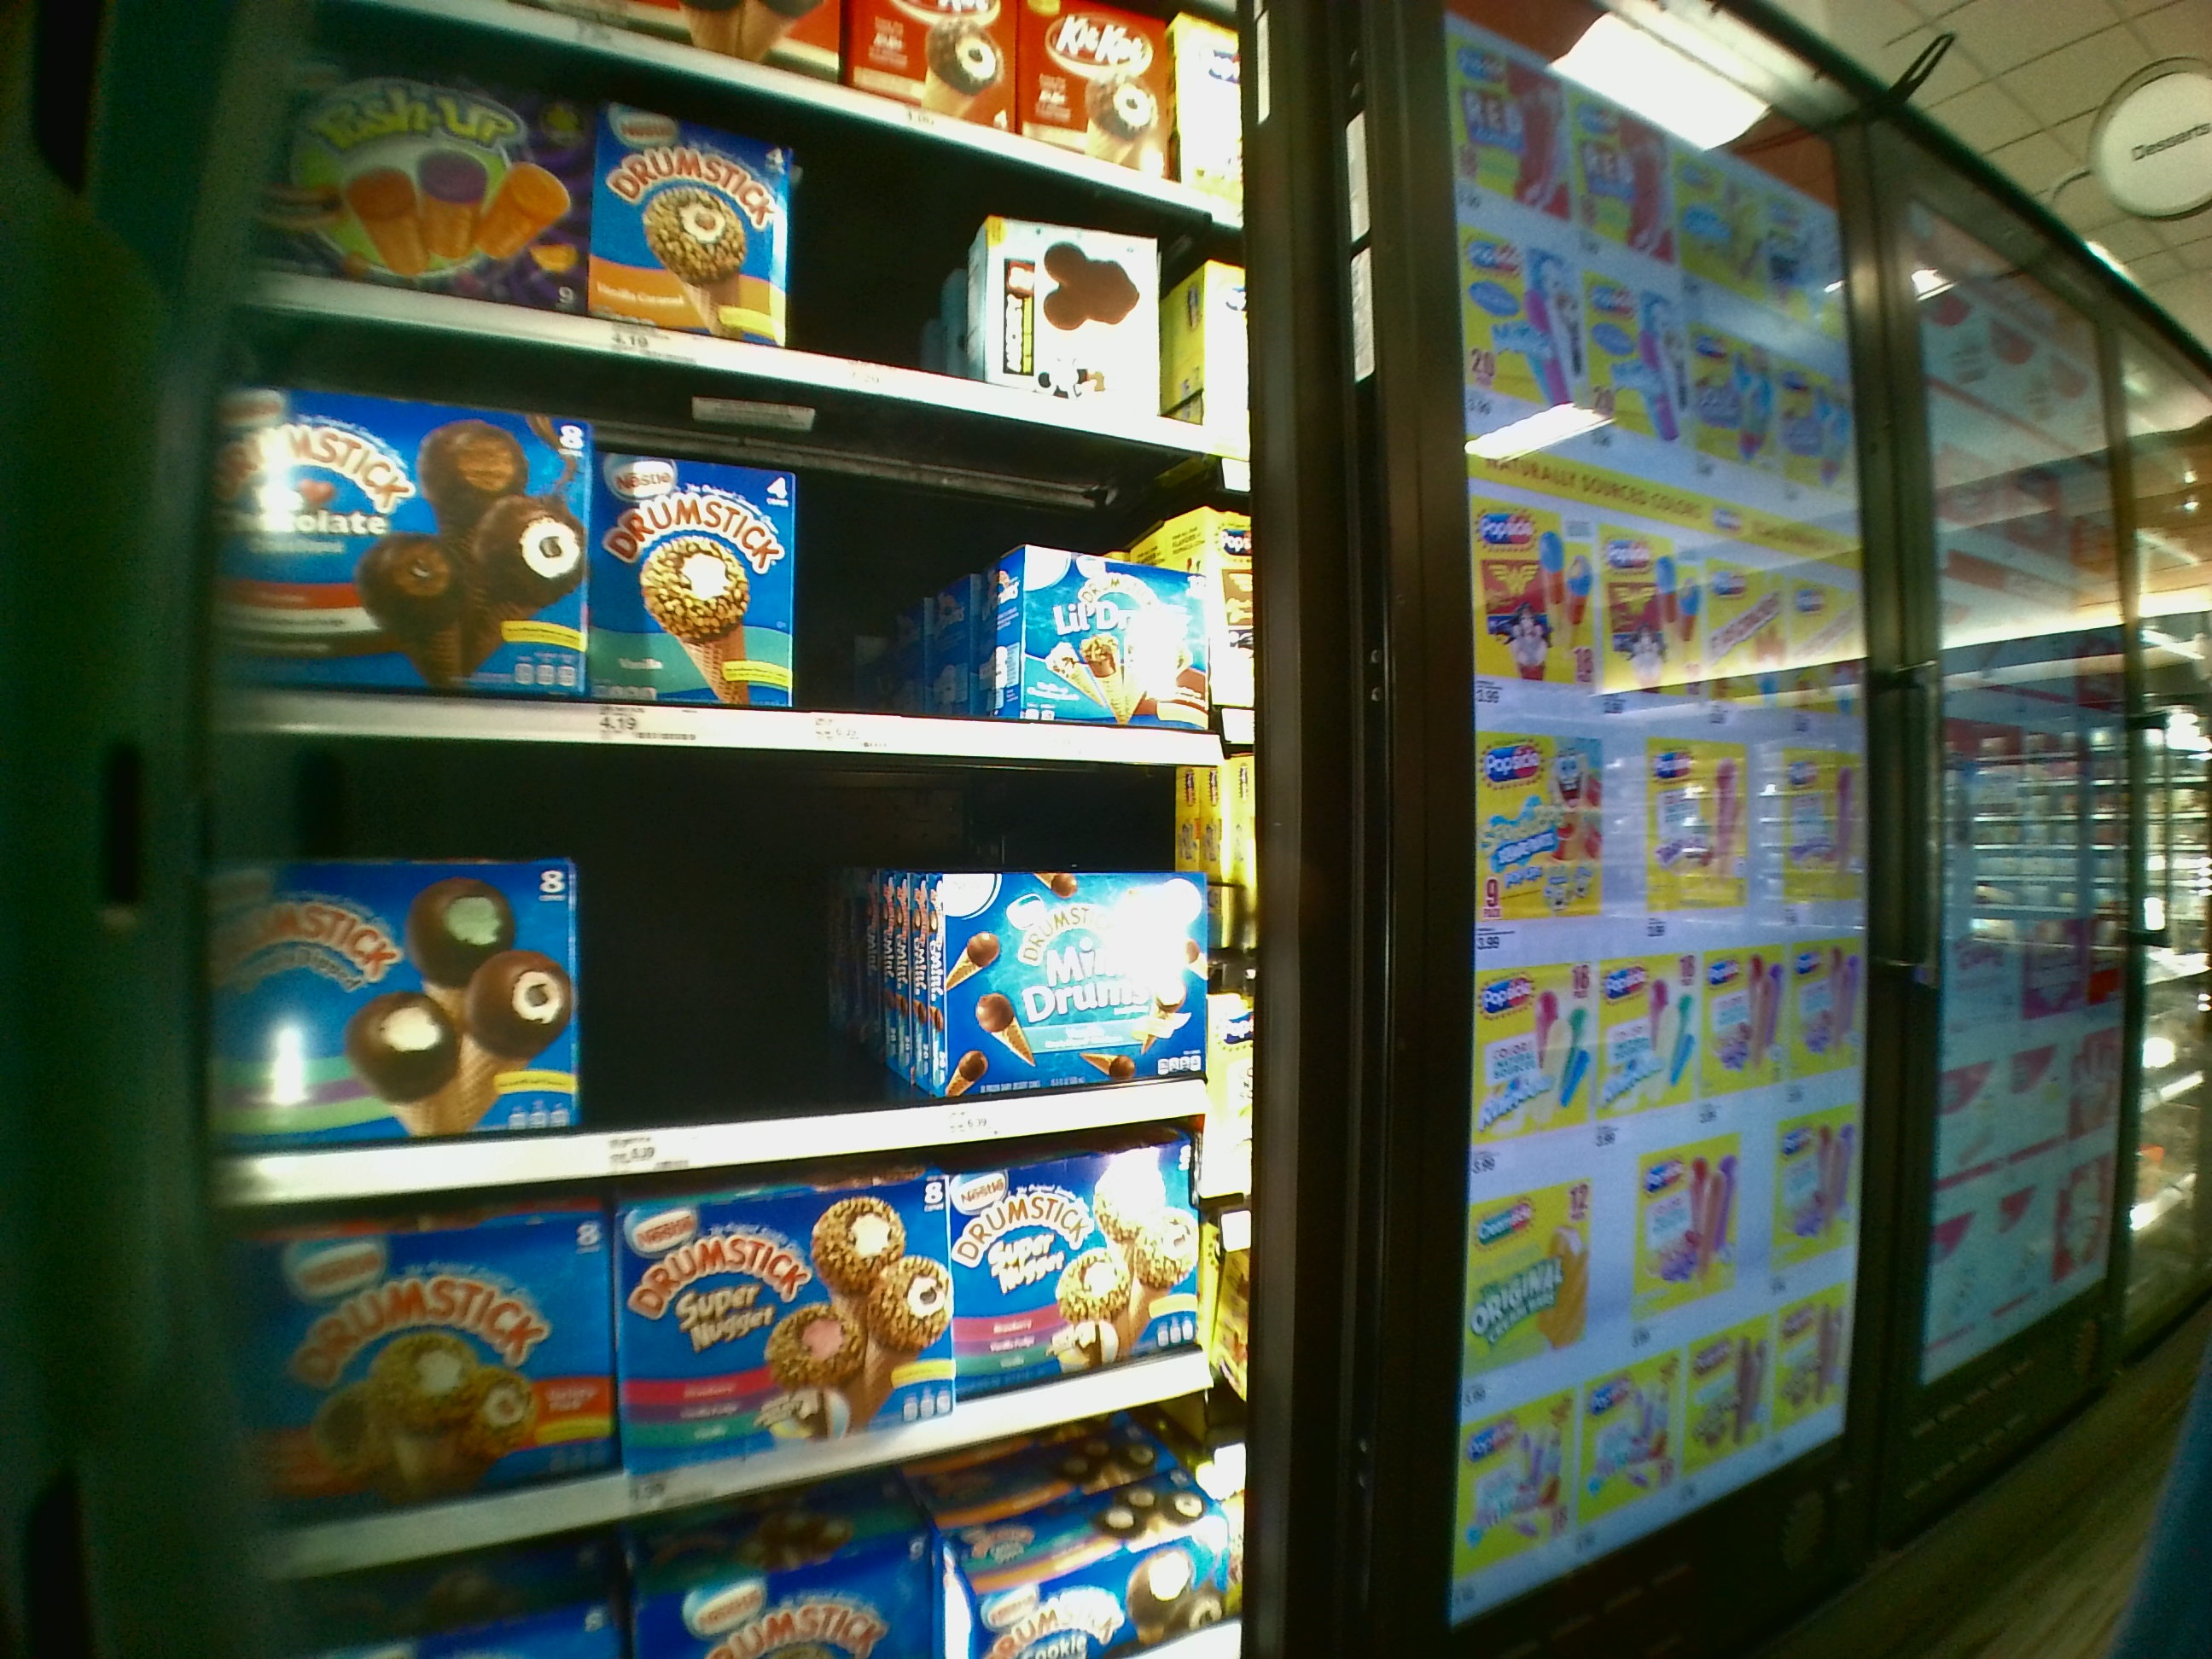shelf: (202, 340, 1228, 765), (207, 774, 1240, 1190)
